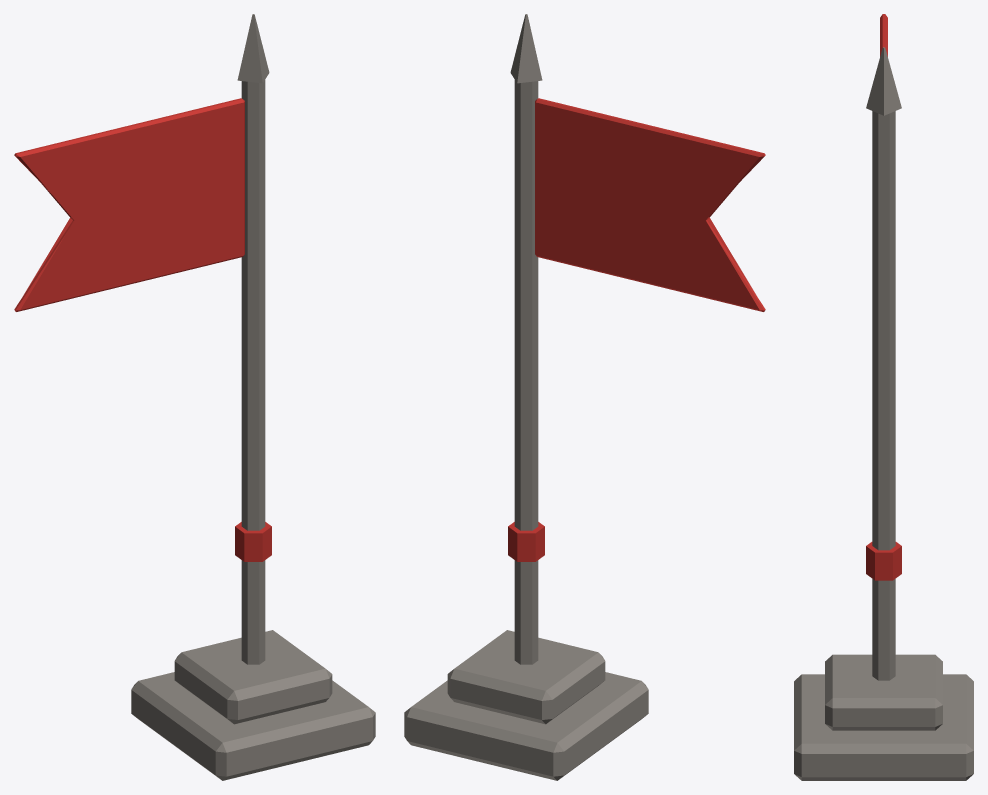
Rendered from rally_flag_crimson.obj.
3 views of the same model, side by side, from view 1: azimuth 30°, elevation 25°; view 2: azimuth 150°, elevation 25°; view 3: azimuth 270°, elevation 25° (orthographic). The views are drawn at different scales.
Visible parts, largest first — view 1: rally_flag_crimson; view 2: rally_flag_crimson; view 3: rally_flag_crimson.
Part boxes in pixels (x1,y1,x2,y2): rally_flag_crimson: [14, 14, 375, 780]; rally_flag_crimson: [404, 14, 765, 780]; rally_flag_crimson: [794, 14, 973, 780].
Bounding box in the file's own units: 1.39 × 3 × 0.7.
